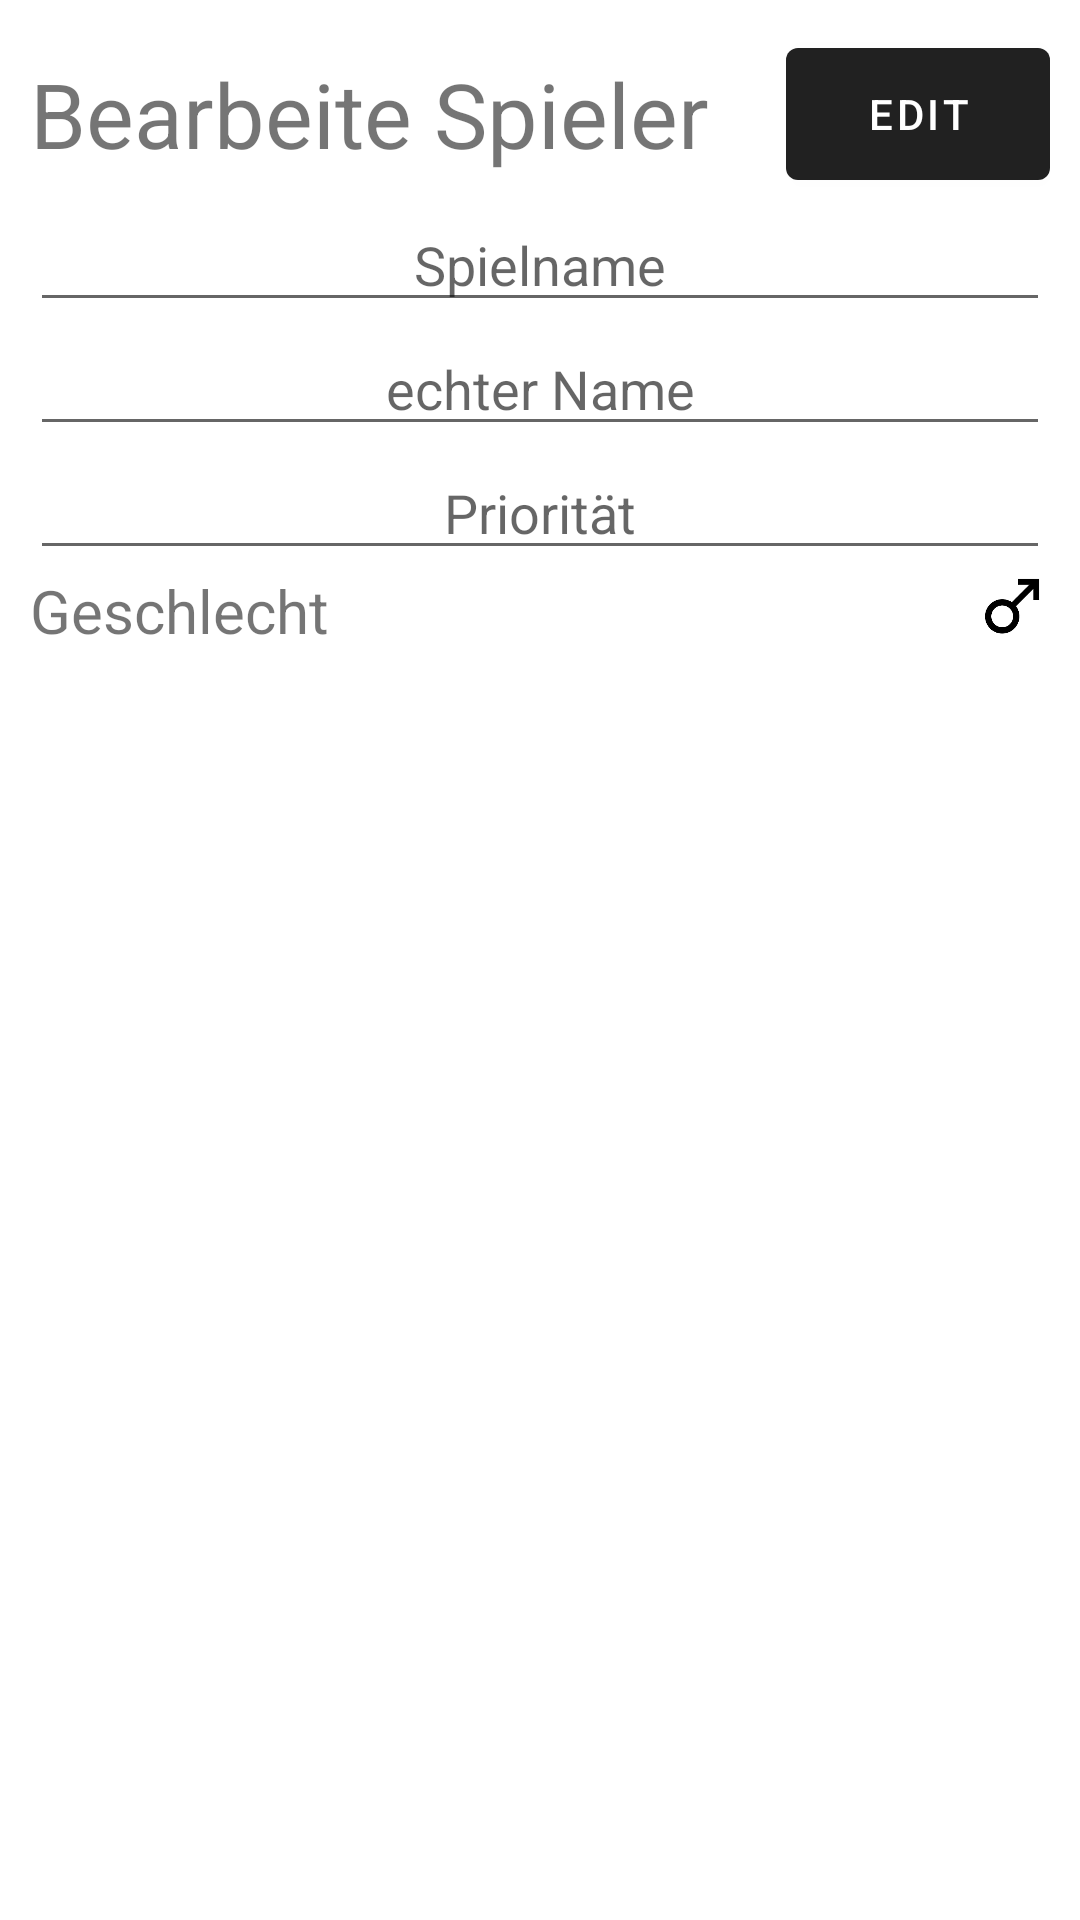

Screen size 1080px x 1920px. Icon name, then its center in pixels as [x,y]:
male: [1012,606]
